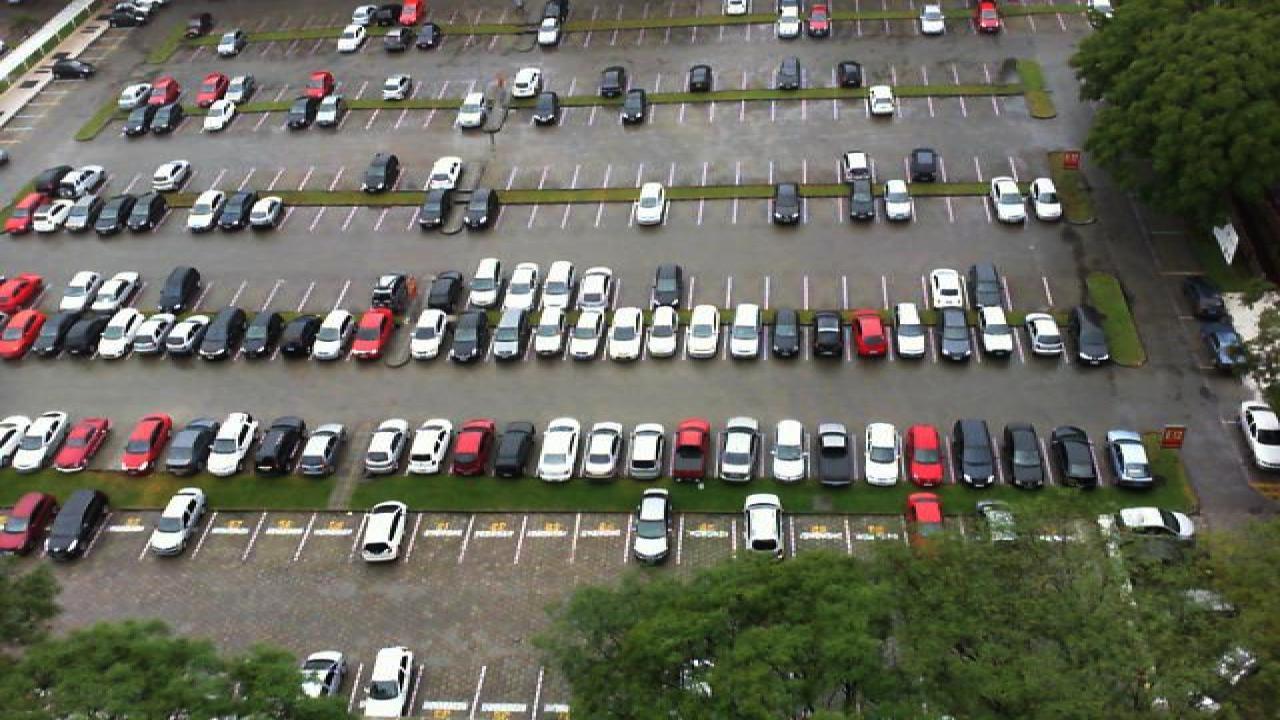Car: (352, 644, 416, 720), (44, 486, 108, 561), (146, 484, 208, 558), (624, 485, 678, 566), (204, 407, 262, 478), (736, 489, 790, 565), (114, 413, 174, 477), (354, 497, 410, 565), (1104, 424, 1160, 492), (1000, 418, 1050, 492), (2, 488, 56, 556), (250, 414, 308, 477), (158, 415, 218, 475), (1050, 421, 1100, 493), (12, 410, 70, 472), (950, 416, 998, 490), (400, 415, 456, 478), (534, 413, 584, 483), (52, 416, 112, 474), (1112, 502, 1198, 541), (624, 415, 672, 484), (906, 418, 952, 490), (288, 419, 344, 478), (362, 416, 416, 477), (860, 417, 906, 488), (1236, 397, 1280, 471), (292, 648, 344, 710), (488, 419, 540, 481), (716, 414, 762, 484), (342, 305, 398, 362), (670, 416, 716, 483), (766, 416, 810, 485), (446, 418, 496, 478), (812, 419, 856, 487), (40, 308, 98, 359), (580, 418, 626, 482), (900, 488, 952, 544), (78, 309, 134, 359), (402, 307, 452, 363), (198, 307, 250, 360), (242, 308, 294, 360), (1068, 310, 1116, 366), (288, 307, 338, 360), (0, 306, 48, 361), (976, 302, 1018, 362), (934, 305, 978, 362), (154, 263, 204, 313), (604, 302, 644, 364), (154, 312, 210, 356), (488, 306, 532, 362), (564, 306, 608, 362), (94, 269, 146, 316), (726, 302, 766, 362), (1020, 310, 1066, 362), (54, 270, 108, 314), (684, 303, 724, 362), (120, 307, 166, 358), (446, 310, 488, 364), (462, 256, 504, 310), (0, 413, 38, 472), (528, 306, 568, 362), (766, 306, 806, 362), (986, 173, 1028, 226), (646, 304, 684, 362), (848, 310, 890, 362), (888, 310, 930, 362), (500, 258, 542, 310), (46, 162, 108, 197), (806, 306, 846, 360), (570, 264, 614, 312), (536, 260, 578, 310), (0, 272, 44, 318), (370, 268, 416, 312), (214, 187, 258, 233), (1028, 173, 1066, 225), (630, 179, 670, 228), (418, 269, 462, 313), (0, 192, 44, 236), (646, 262, 688, 308), (120, 188, 162, 234), (186, 187, 228, 233), (454, 188, 496, 234), (80, 190, 124, 233), (422, 153, 466, 196), (414, 188, 456, 233), (928, 266, 968, 312), (362, 150, 402, 196), (878, 177, 916, 225), (38, 192, 80, 234), (966, 262, 1004, 308), (844, 179, 882, 225), (768, 180, 804, 228), (146, 158, 194, 194), (906, 144, 946, 186), (242, 194, 286, 231), (454, 91, 490, 134), (310, 94, 348, 130), (864, 82, 902, 118), (530, 89, 564, 129), (618, 87, 652, 127), (840, 148, 876, 185), (770, 4, 806, 40), (200, 99, 238, 133), (194, 71, 230, 106), (150, 100, 184, 137), (774, 54, 806, 93), (284, 98, 320, 132), (302, 68, 338, 102), (492, 91, 524, 128), (512, 64, 544, 101), (916, 0, 948, 37), (378, 73, 416, 104), (806, 0, 836, 39), (122, 104, 156, 138), (148, 73, 182, 107), (214, 27, 248, 61), (332, 23, 368, 55), (974, 0, 1006, 36), (118, 79, 152, 111), (596, 64, 628, 97), (684, 63, 716, 96), (380, 20, 412, 52), (536, 18, 564, 53), (238, 73, 268, 105), (834, 59, 864, 91), (396, 0, 430, 27), (414, 21, 442, 52), (350, 1, 382, 27)
